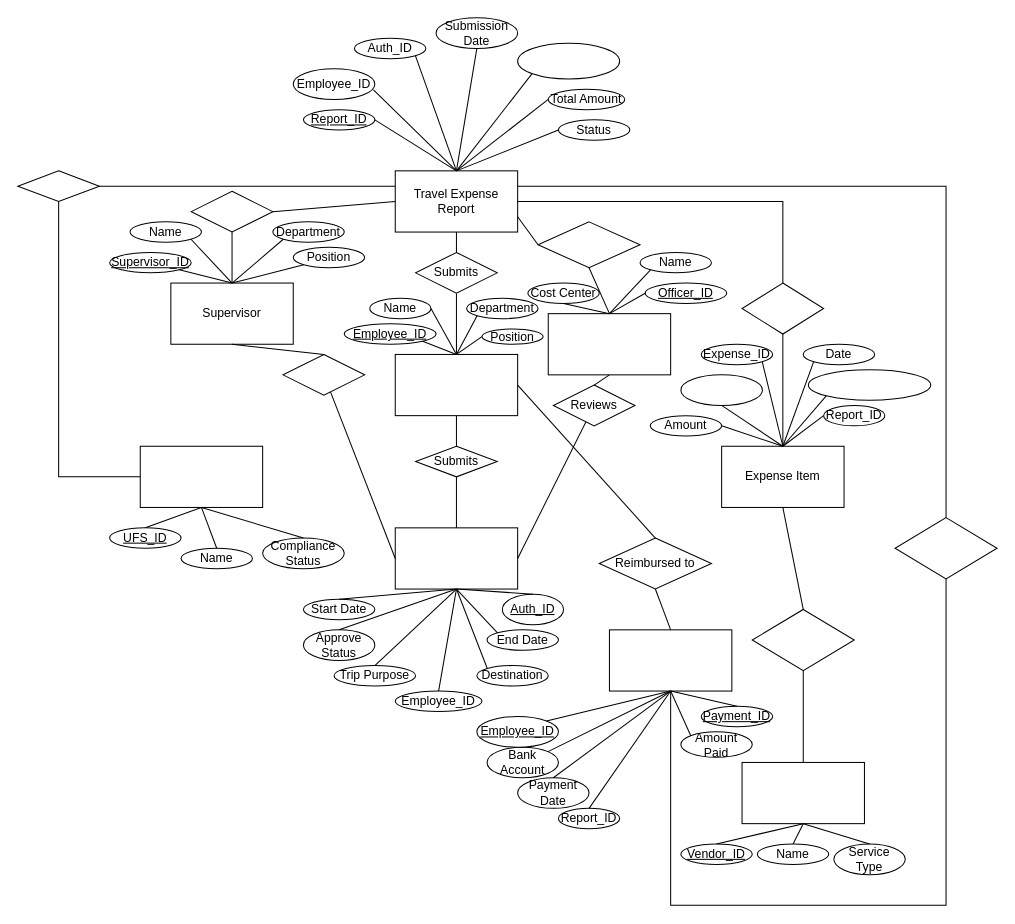
Image size: 1015x924. Some labels were removed from this diagram. The centre of each missing label's shape, as x and y in pixels:
"Approves" belongs at (x=323, y=374).
"Audited by" belongs at (x=58, y=185).
"Budget Officer" belongs at (x=609, y=344).
"Contains" belongs at (x=782, y=308).
"Employee" belongs at (x=456, y=384).
"Funds Approved by" belongs at (x=588, y=244).
"Is provided by" belongs at (x=802, y=639).
"Payment Method" belongs at (x=721, y=389).
"Processed Through" belongs at (x=945, y=548).
"Reimbursement Payment" belongs at (x=670, y=660).
"Reveiwed by" belongs at (x=231, y=211).
"Travel Authorization" belongs at (x=456, y=558).
"Travel Vendor" belongs at (x=802, y=792).
"Trip Type(Dom/Intl)" belongs at (x=568, y=60).
"Type(Lodging/Meals)" belongs at (x=869, y=384).
"University Financial Services" belongs at (x=201, y=476).
